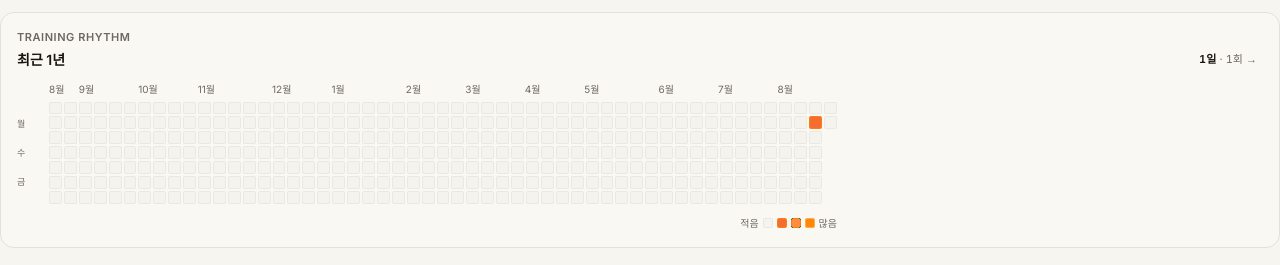
it: TrainingHeatmap 툴팁 내용 › 같은 날 여러 기록이면 몸으로 한 세션이 먼저, 공부는 뒤에 온다
The width and height of the screenshot is (1280, 265).
Hover over the button titled "2026-08-10 · 1회".
mouse_move(816, 123)  # box [809,116,822,129]
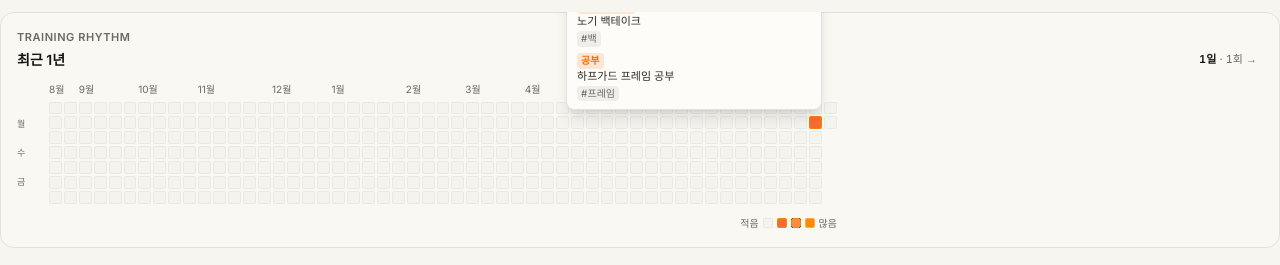
Expected: the tooltip shows "공부", [581,54,600,66]
